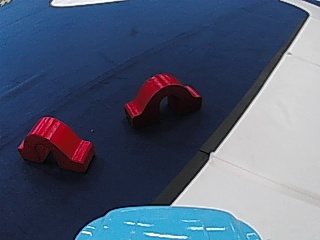bridge: (117, 69, 203, 127), (15, 115, 100, 172)
